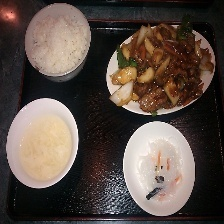rice: (26, 9, 89, 74)
